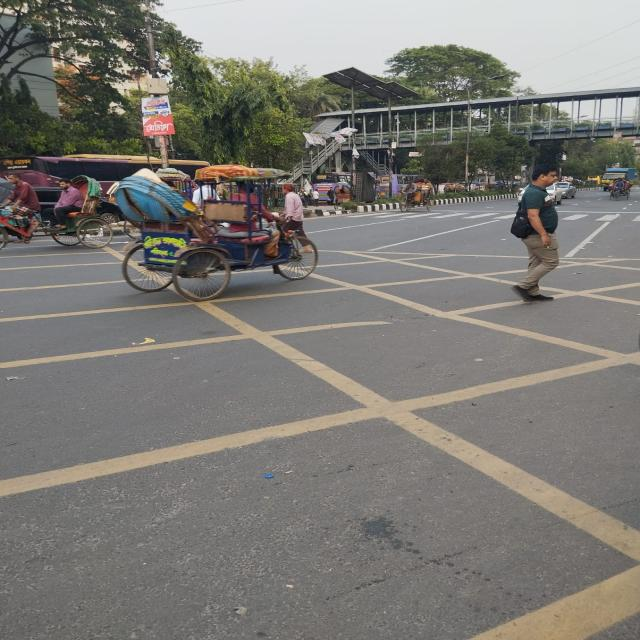person: (512, 164, 559, 302), (282, 184, 312, 252)
